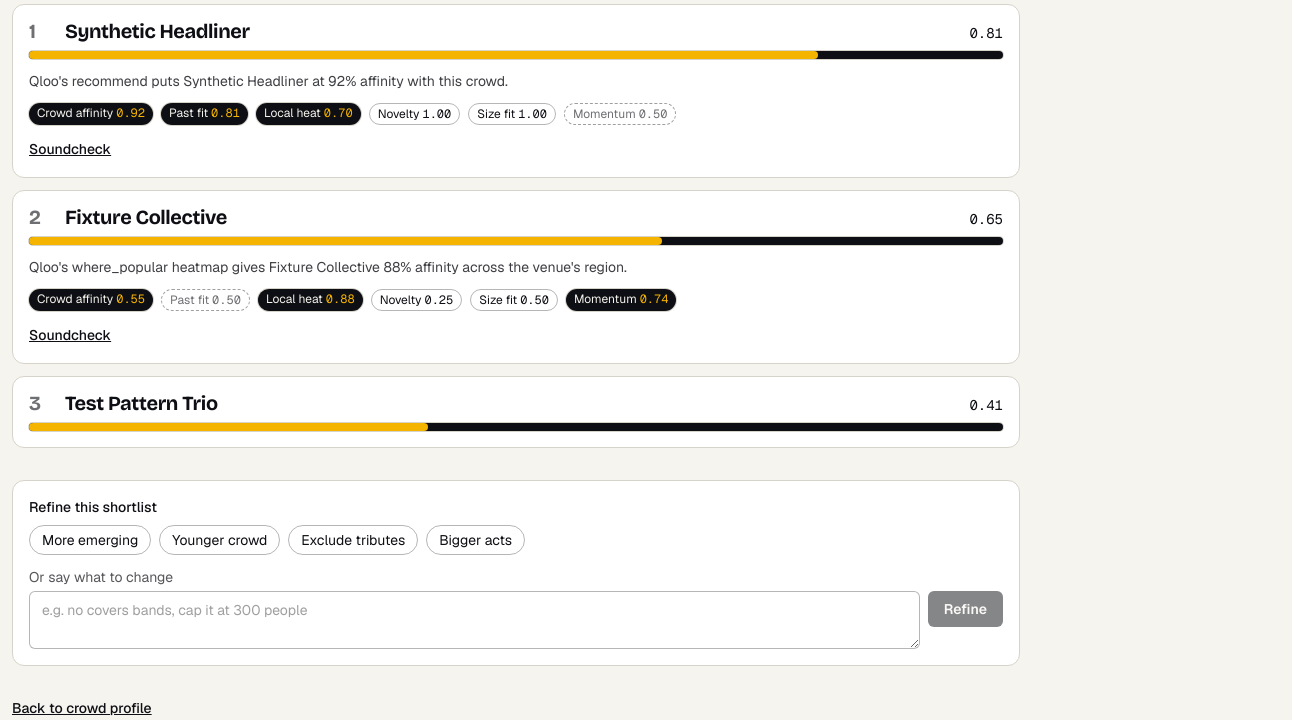
refinable run › explains a message the agent could read no change from
(page scrolled)
Type "hello" into the text box labelled "Or say what to change" at (474, 620), box [29,591,920,649]
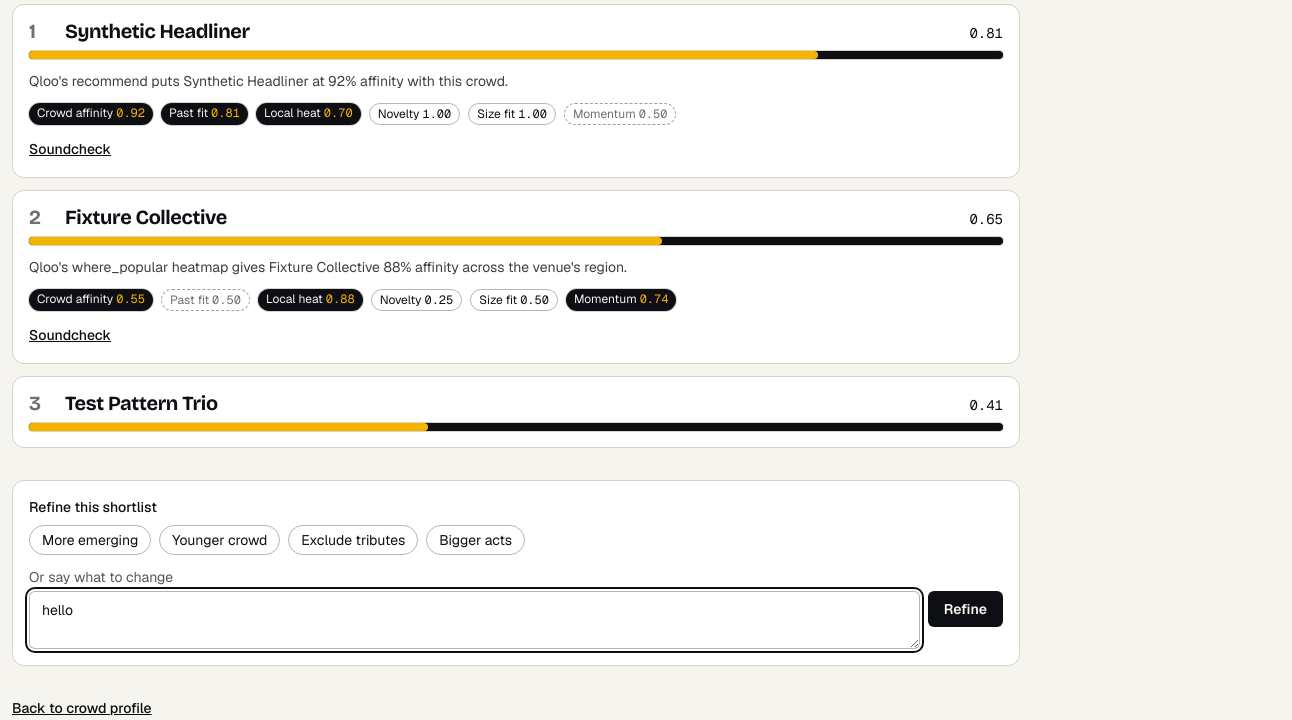
Click the button "Refine" at (965, 609), box [928,591,1003,627]
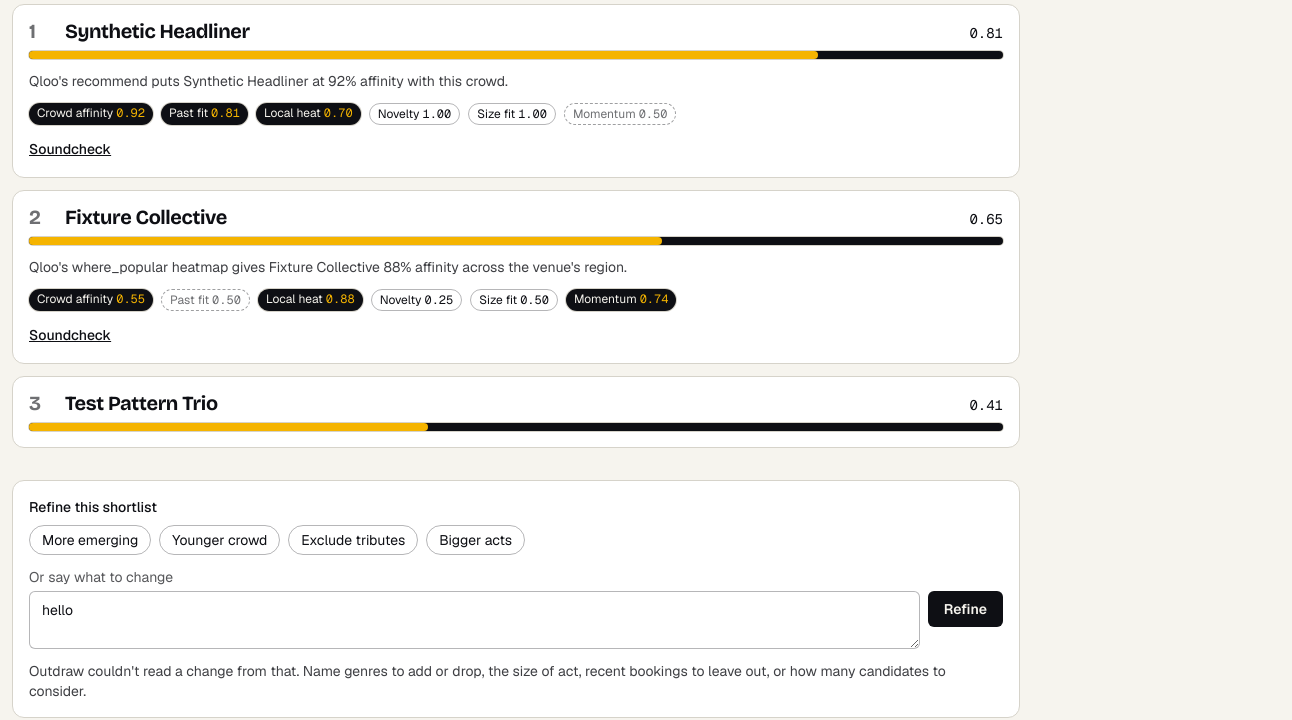
expect the message shows "couldn't read a change": met, box [29,662,946,700]
